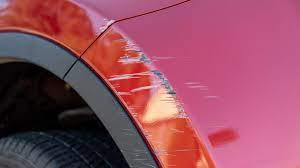scratch: (121, 48, 193, 108)
